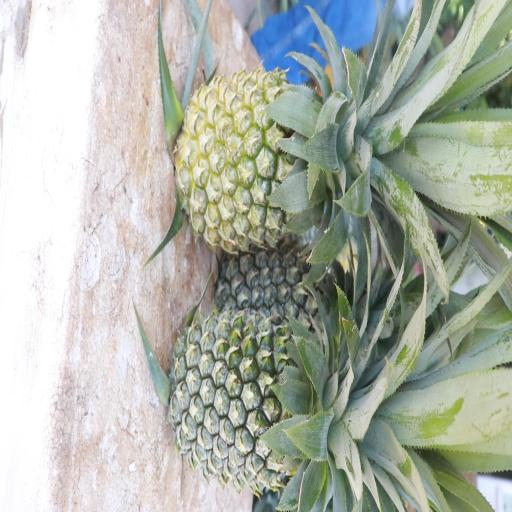Pineapple - v8 v1: (182, 68, 368, 245)
